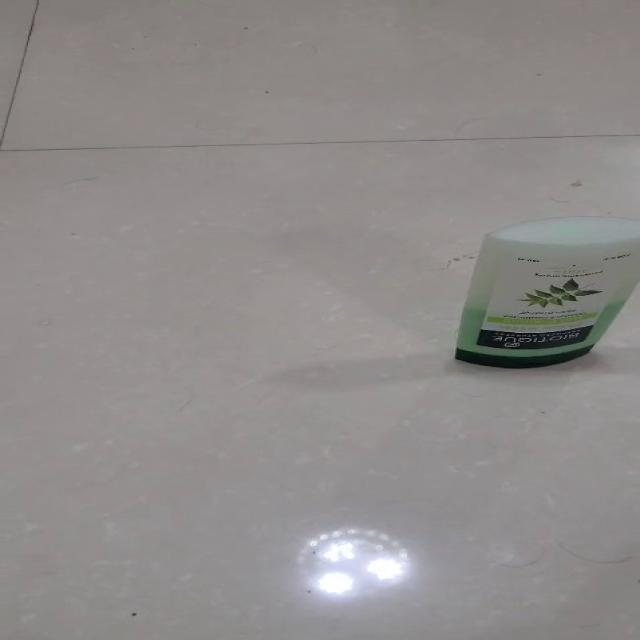plastic: (452, 215, 638, 368)
